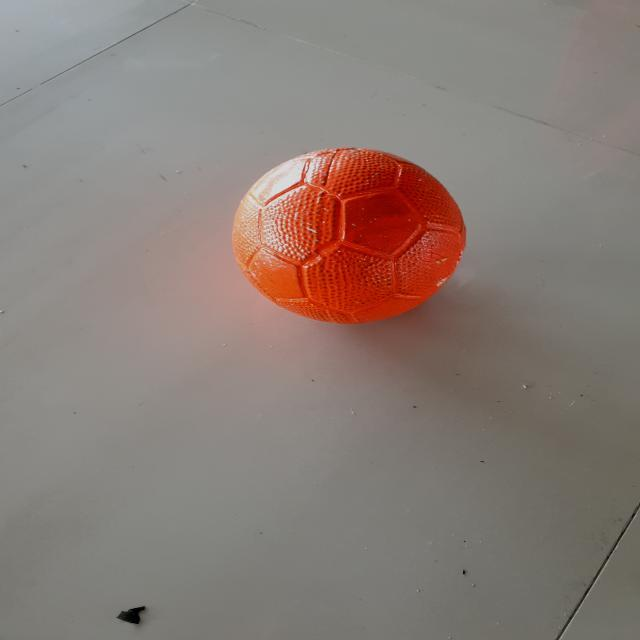bola: (228, 134, 472, 332)
